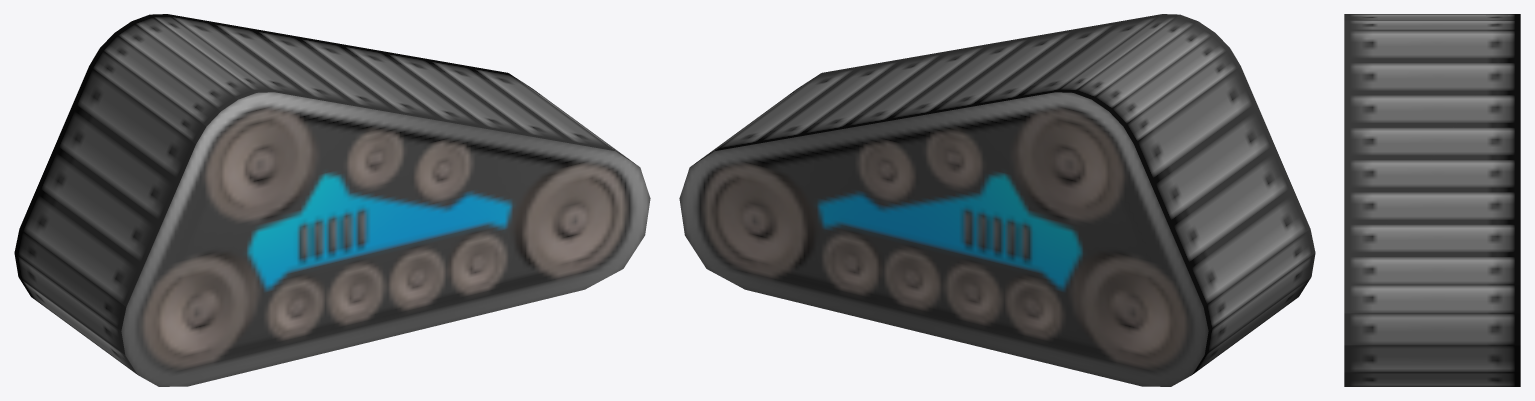
The model's file is lem3t.obj.
The picture shows the model from 3 angles, left to right: view 1: azimuth 30°, elevation 25°; view 2: azimuth 150°, elevation 25°; view 3: azimuth 270°, elevation 25°; orthographic projection. The views are drawn at different scales.
Parts seen in each view (by area): view 1: ColobotMesh_1_ColobotMesh_; view 2: ColobotMesh_1_ColobotMesh_; view 3: ColobotMesh_1_ColobotMesh_.
Boxes of the visible parts, x1,y1,x2,y2 form: ColobotMesh_1_ColobotMesh_: (14,14,650,386); ColobotMesh_1_ColobotMesh_: (679,14,1315,386); ColobotMesh_1_ColobotMesh_: (1344,14,1520,386).
Bounding box in the file's own units: 8 × 4 × 2.8.
